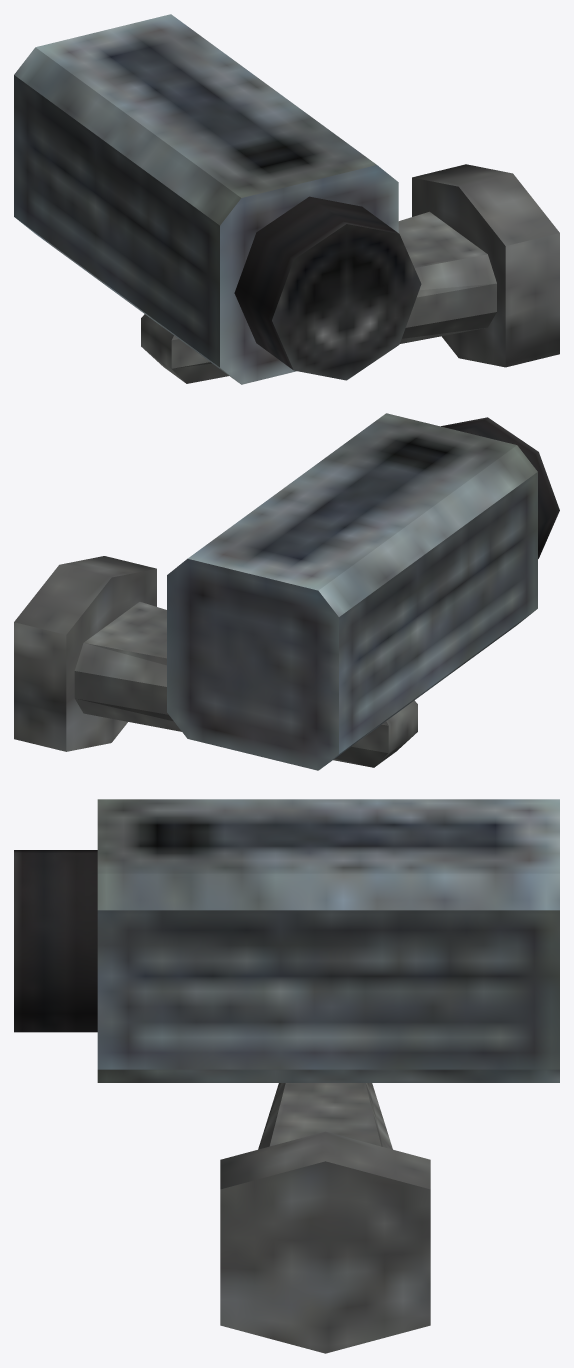
The model's file is Camera3.FBX.
The picture shows the model from 3 angles, top to bottom: view 1: azimuth 30°, elevation 25°; view 2: azimuth 150°, elevation 25°; view 3: azimuth 270°, elevation 25°; orthographic projection. The views are drawn at different scales.
Parts seen in each view (by area): view 1: Camera3; view 2: Camera3; view 3: Camera3.
Part boxes in pixels (x1,y1,x2,y2): Camera3: [14, 14, 559, 384]; Camera3: [14, 413, 559, 770]; Camera3: [14, 799, 559, 1353].
Bounding box in the file's own units: 113 × 85.83 × 121.
